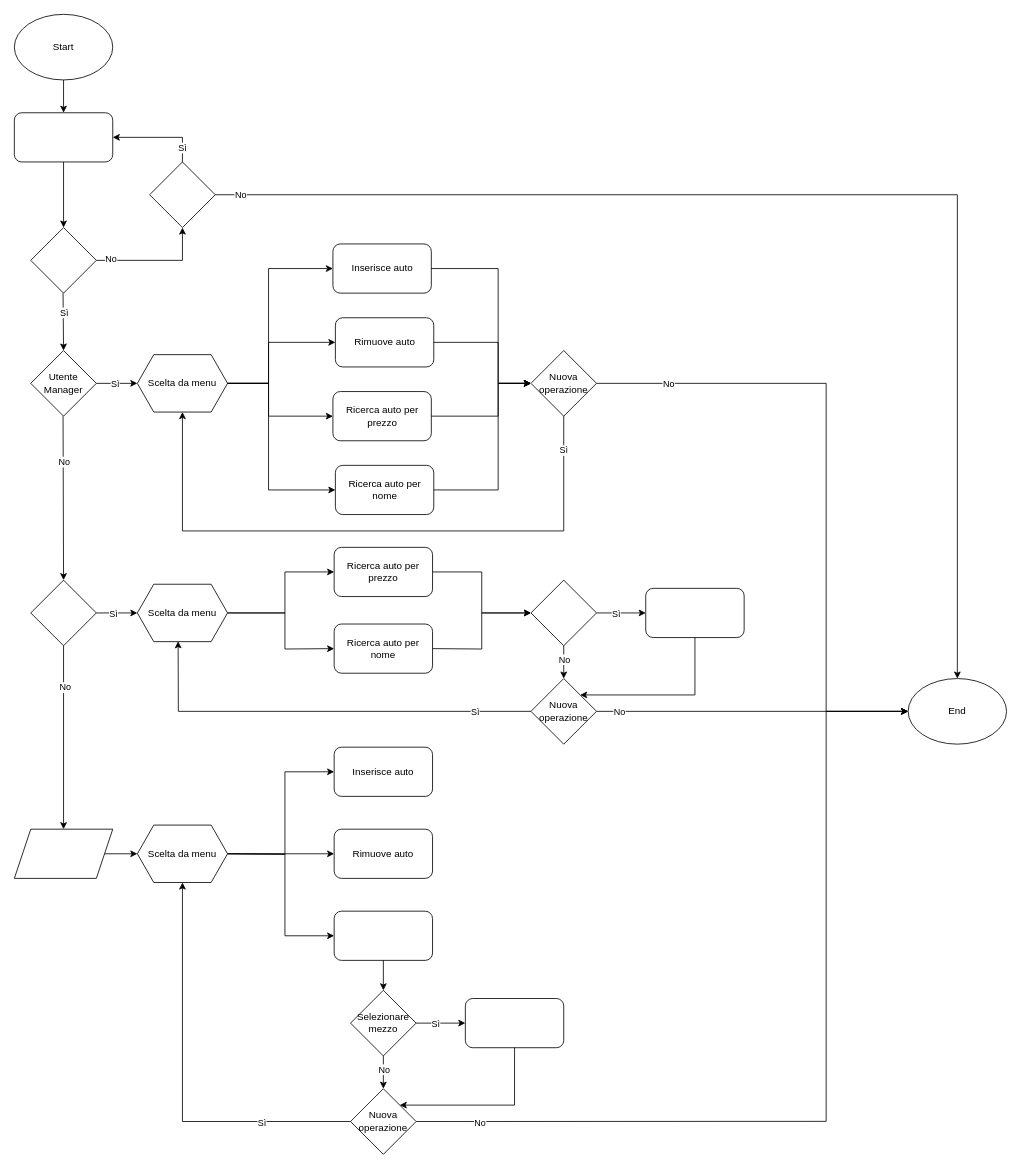
Image size: 1021x1169. Some labels were removed from this diagram. The shapes that lost their labels are listed below. From the top down, each one's centre as x and y in pixels, then its label:
(63,137): Login
(182,194): Nuovo tentativo
(63,260): Utente esistente
(63,612): Utente Cliente
(563,612): Selezionare auto
(694,613): Seleziona auto
(63,853): Utente Batman
(383,935): Ricerca mezzo per nome
(514,1023): Seleziona mezzo
